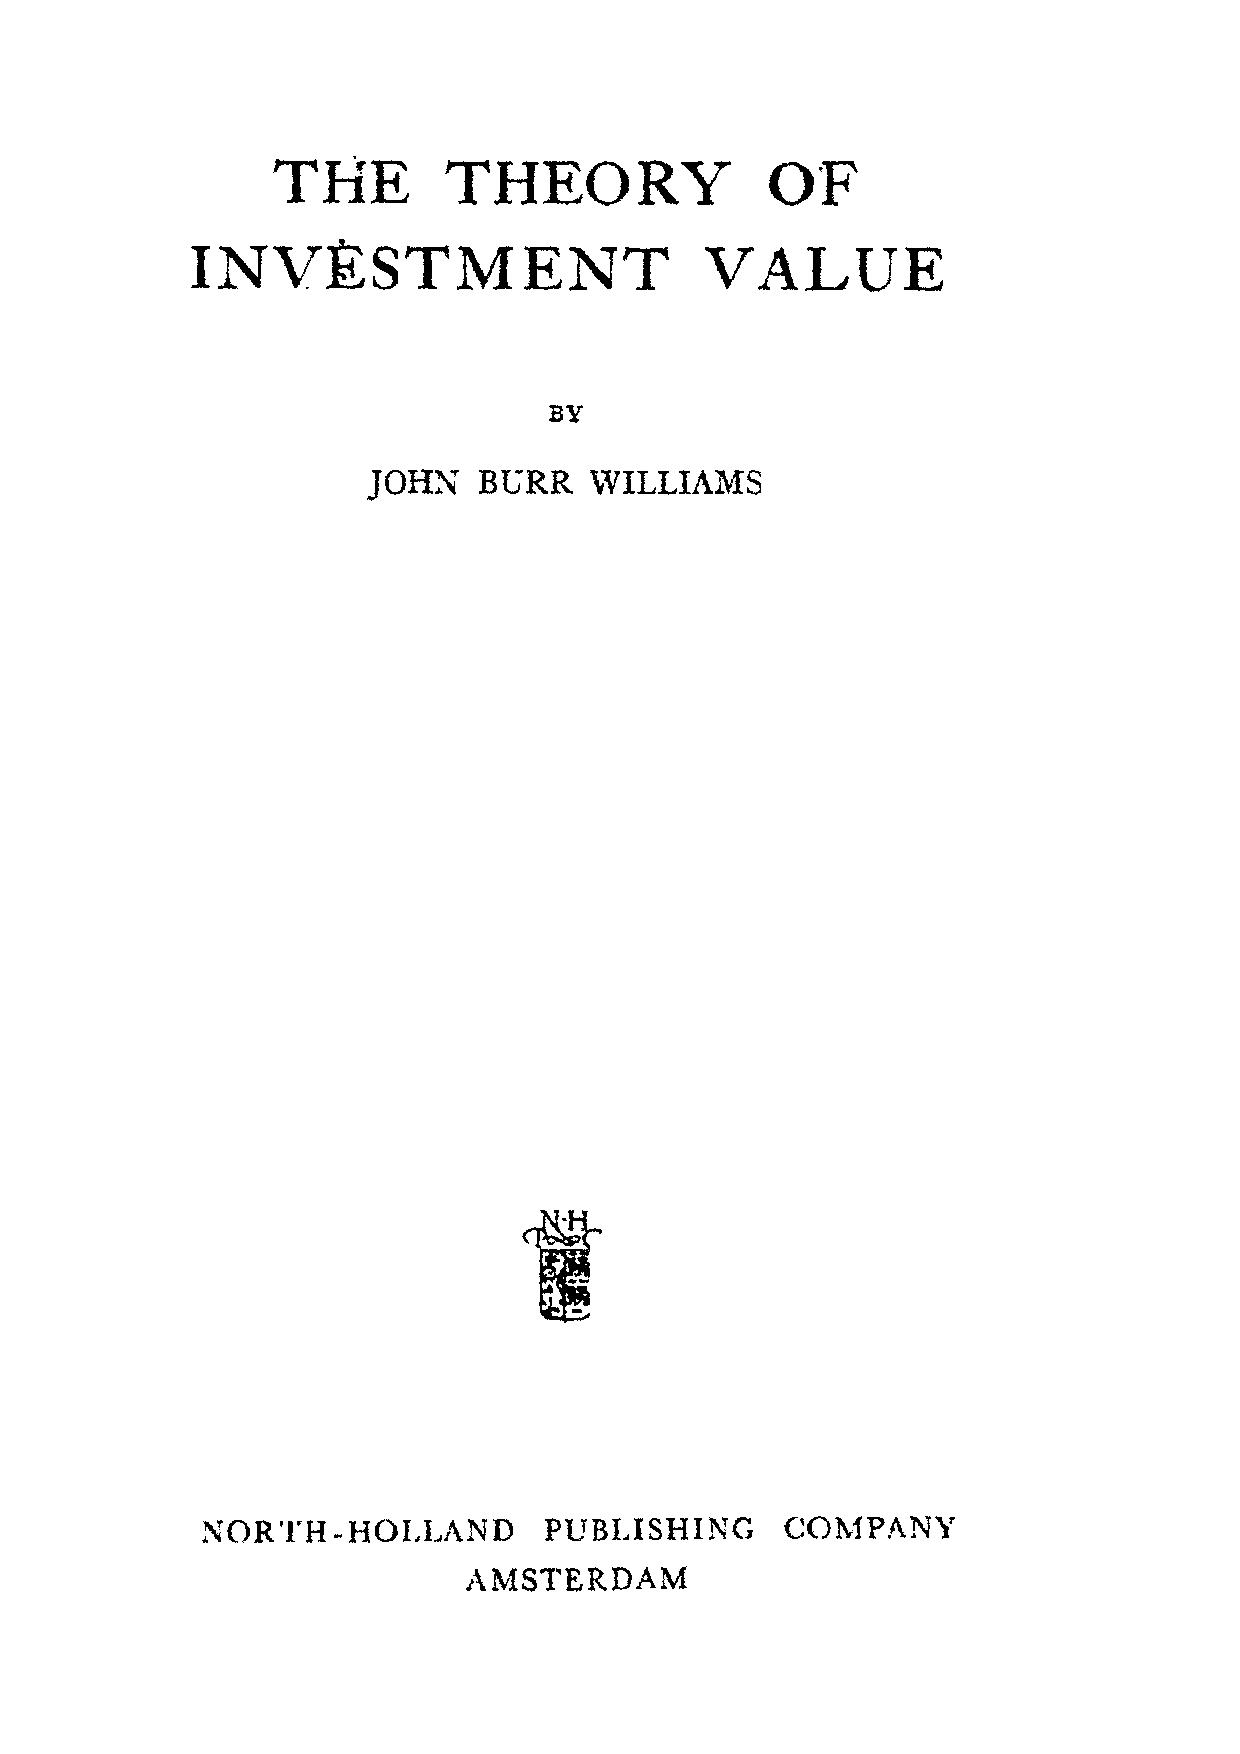author: (361, 403, 764, 503)
title: (187, 158, 943, 290)
